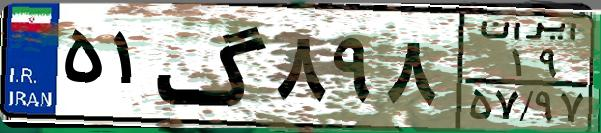1: (110, 28, 156, 98), (508, 27, 537, 80)
5: (57, 26, 110, 100), (470, 70, 495, 125)
7: (560, 70, 590, 125), (495, 70, 520, 125)
8: (270, 28, 330, 110), (385, 28, 445, 110)
9: (330, 28, 385, 110), (537, 27, 568, 80), (535, 70, 560, 125)
گ: (156, 12, 270, 120)
